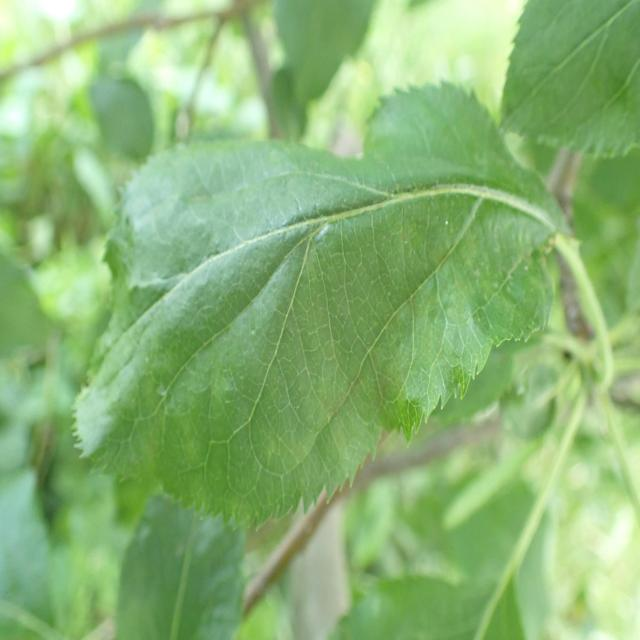scab: (83, 175, 559, 488)
